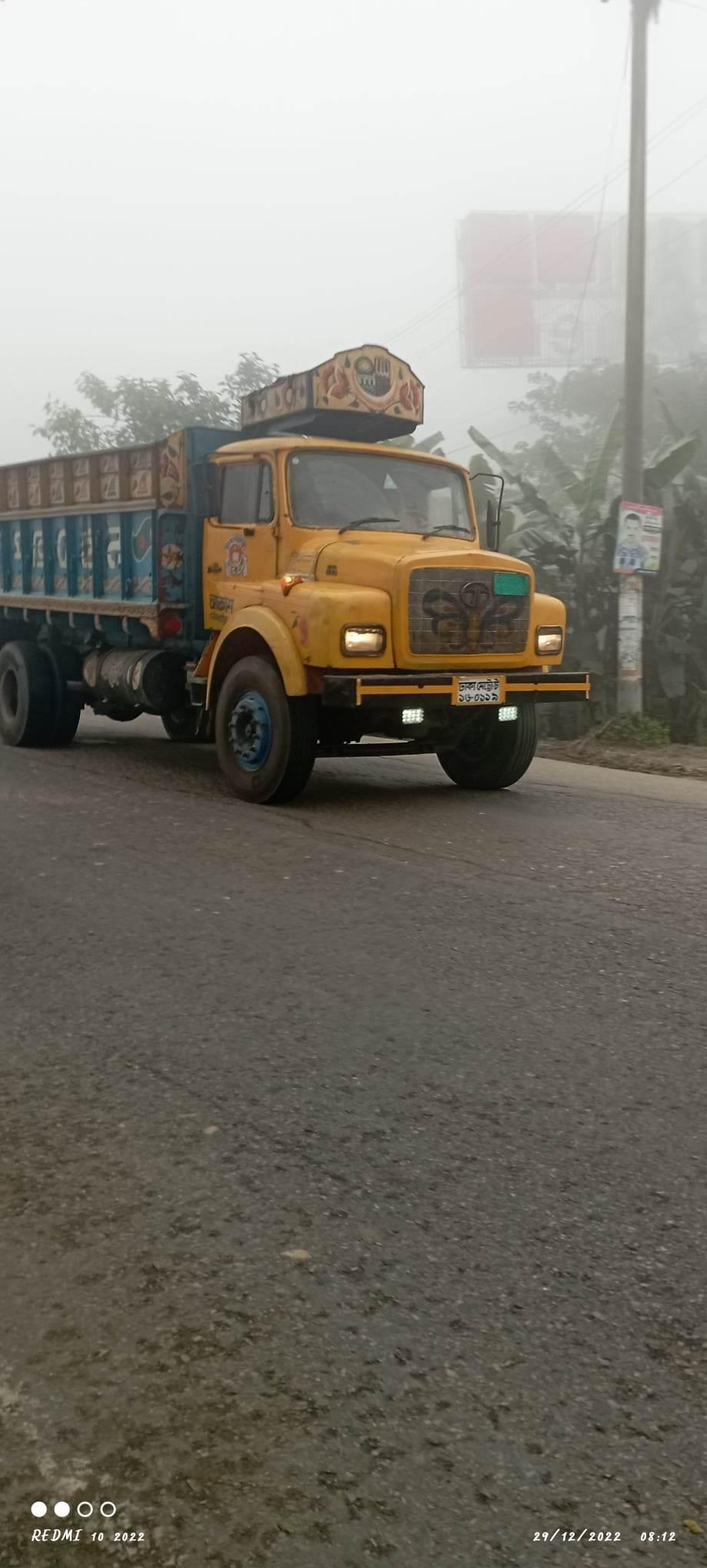Truck: (2, 314, 602, 875)
